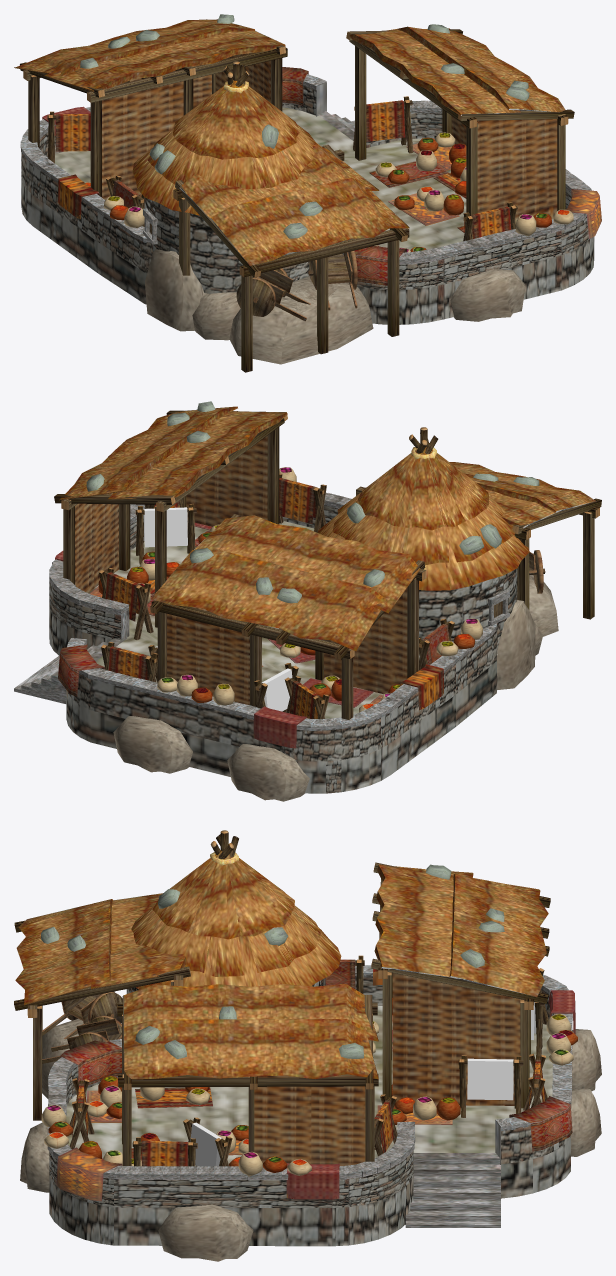
File: lusi_new_market.dae
3 renders of one model, top to bottom at view 1: azimuth 30°, elevation 25°; view 2: azimuth 150°, elevation 25°; view 3: azimuth 270°, elevation 25°, orthographic. The views are drawn at different scales.
Parts seen in each view (by area): view 1: lusi_market_new; view 2: lusi_market_new; view 3: lusi_market_new.
Boxes of the visible parts, x1,y1,x2,y2 form: lusi_market_new: (14,14,601,372); lusi_market_new: (14,401,601,801); lusi_market_new: (14,830,601,1261).
Bounding box in the file's own units: 28.81 × 31.65 × 15.
